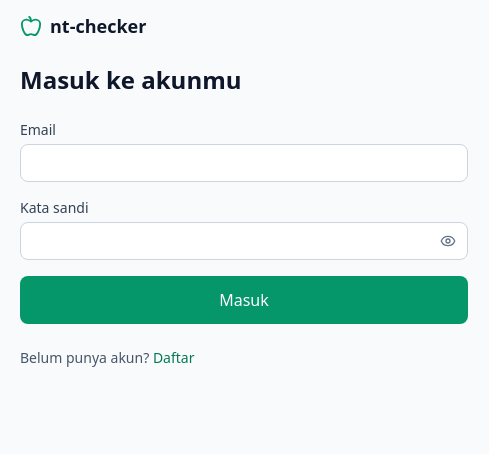
LoginPage › on wrong credentials (401 UNAUTHORIZED) shows "Email atau kata sandi salah."
The width and height of the screenshot is (489, 454).
In the field labelled "Email": [244, 163] box [20, 144, 468, 182], type "imam@example.com"
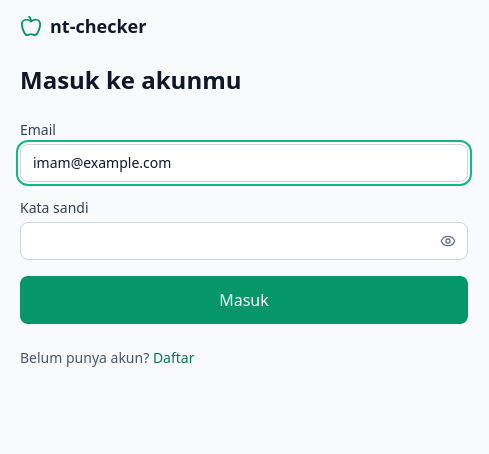
In the password field labelled "Kata sandi": [244, 241] box [20, 222, 468, 260], type "password123"
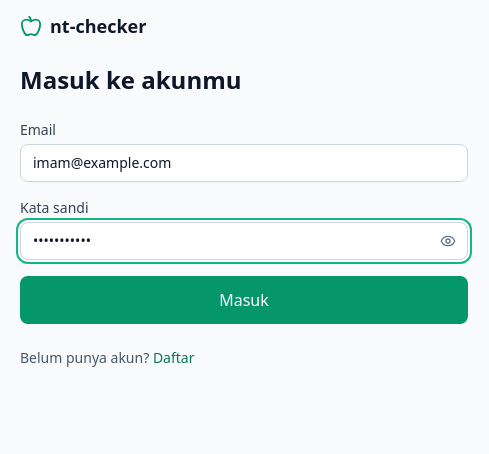
Click the button "Masuk": [244, 300] box [20, 276, 468, 324]
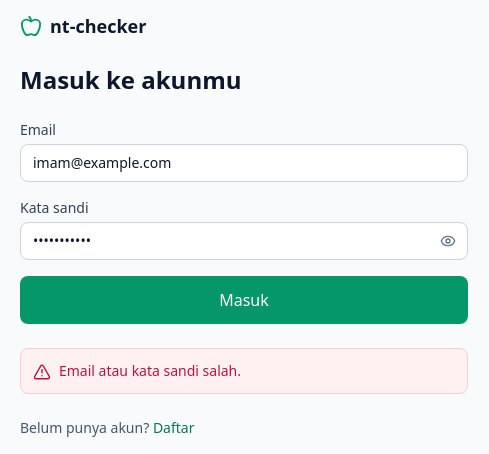
Check: the message reads "Email atau kata sandi salah.", box [59, 361, 241, 380]
